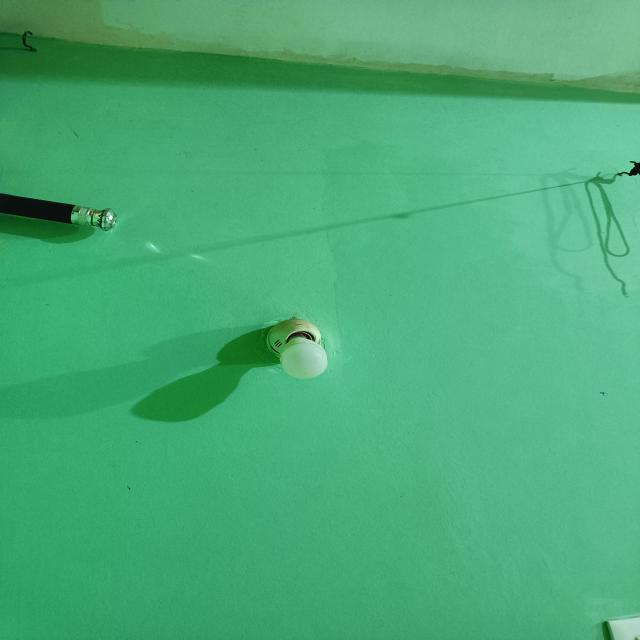bulb_off: (276, 331, 331, 381)
